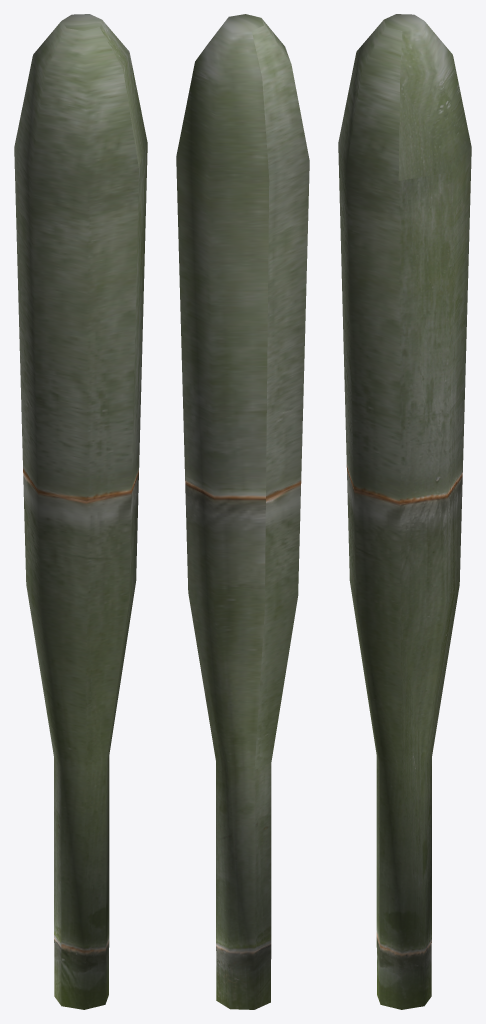
File: nuija1.fbx
3 renders of one model, left to right at view 1: azimuth 30°, elevation 25°; view 2: azimuth 150°, elevation 25°; view 3: azimuth 330°, elevation 25°, orthographic.
Parts seen in each view (by area): view 1: Circle_001; view 2: Circle_001; view 3: Circle_001.
Boxes of the visible parts, <box> form: Circle_001: <box>14,14,147,1009</box>; Circle_001: <box>176,14,309,1009</box>; Circle_001: <box>338,14,471,1009</box>.
Bounding box in the file's own units: 0.5412 × 4.35 × 0.5276.
